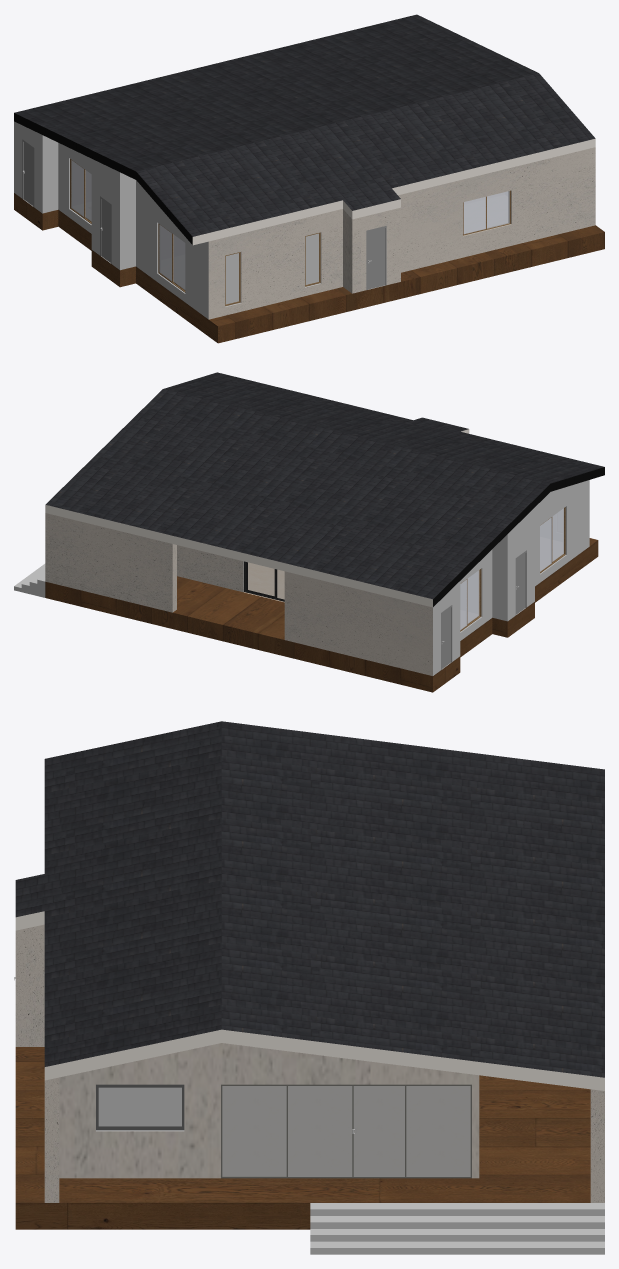
The model's file is tengo-07a4d45eda3d.glb.
3 views of the same model, one above another, from view 1: azimuth 30°, elevation 25°; view 2: azimuth 150°, elevation 25°; view 3: azimuth 270°, elevation 25° (orthographic). The views are drawn at different scales.
Parts seen in each view (by area): view 1: empty_152, empty_130, empty_132, empty_131, empty_150, empty_4, empty_95, empty_3, empty_153, empty_2; view 2: empty_152, empty_130, empty_132, empty_131, empty_150, empty_3, empty_4, empty_153, empty_95, empty_133, empty_16, empty_2; view 3: empty_152, empty_132, empty_130, empty_239, empty_3, empty_150, empty_238, empty_67.
Part boxes in pixels (box(x1,y1,x2,y2)): empty_152: box(14, 14, 595, 236); empty_130: box(208, 147, 595, 319); empty_132: box(14, 193, 604, 343); empty_131: box(14, 122, 208, 319); empty_150: box(192, 138, 595, 245); empty_4: box(71, 160, 508, 289); empty_95: box(22, 139, 386, 289); empty_3: box(14, 121, 509, 306); empty_153: box(14, 113, 192, 244); empty_2: box(70, 159, 510, 306); empty_152: box(45, 372, 603, 599); empty_130: box(45, 513, 432, 675); empty_132: box(45, 538, 598, 692); empty_131: box(433, 480, 589, 675); empty_150: box(45, 429, 469, 607); empty_3: box(14, 506, 566, 669); empty_4: box(460, 508, 563, 629); empty_153: box(433, 467, 604, 606); empty_95: box(441, 550, 526, 669); empty_133: box(244, 562, 284, 602); empty_16: box(248, 562, 284, 599); empty_2: box(460, 507, 565, 631); empty_152: box(15, 721, 604, 1077); empty_132: box(15, 1047, 590, 1229); empty_130: box(15, 924, 604, 1202); empty_239: box(222, 1086, 470, 1176); empty_3: box(14, 977, 604, 1254); empty_150: box(15, 911, 604, 1090); empty_238: box(221, 1084, 471, 1178); empty_67: box(96, 1084, 184, 1130).
Bounding box in the file's own units: 16.35 × 4.57 × 12.23.
Materials: 56 (27 with a texture image).
